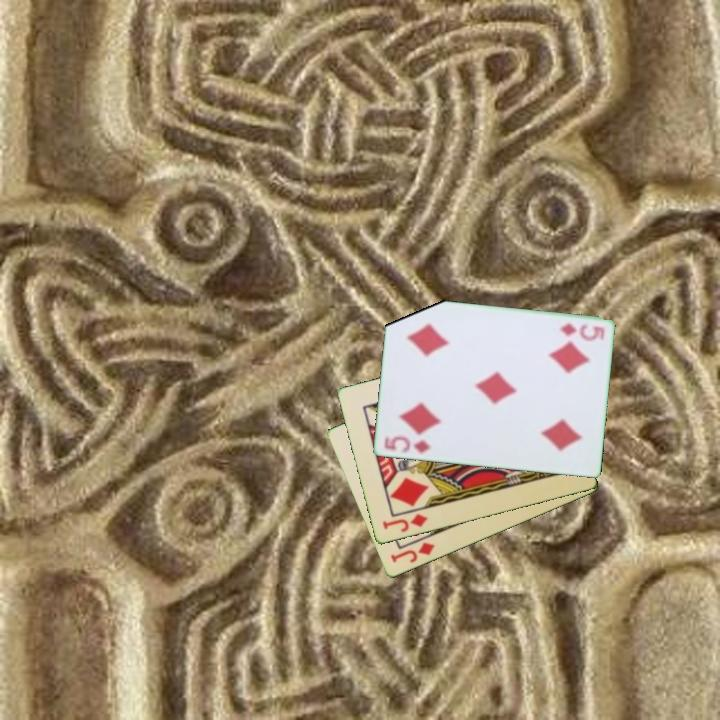5d: (380, 433, 433, 456), (555, 320, 607, 343)
Jd: (387, 539, 438, 566), (379, 510, 431, 535)
